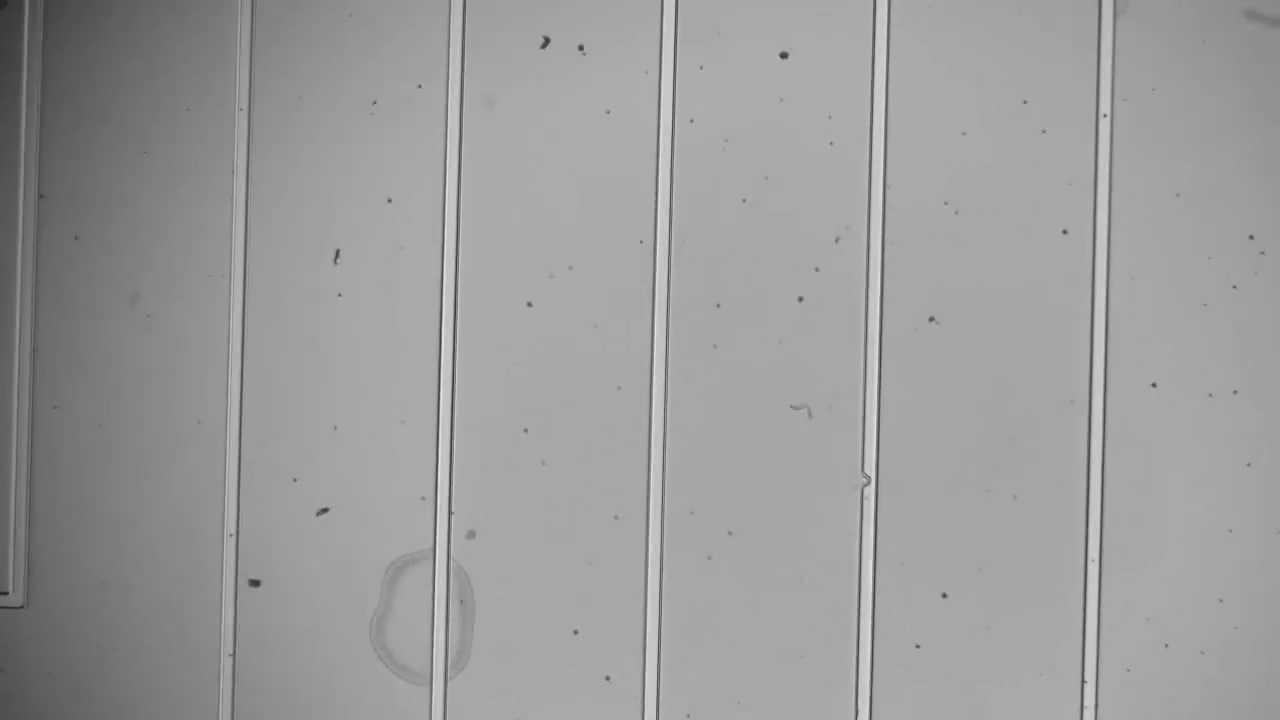edge_bite: (851, 464, 884, 498)
